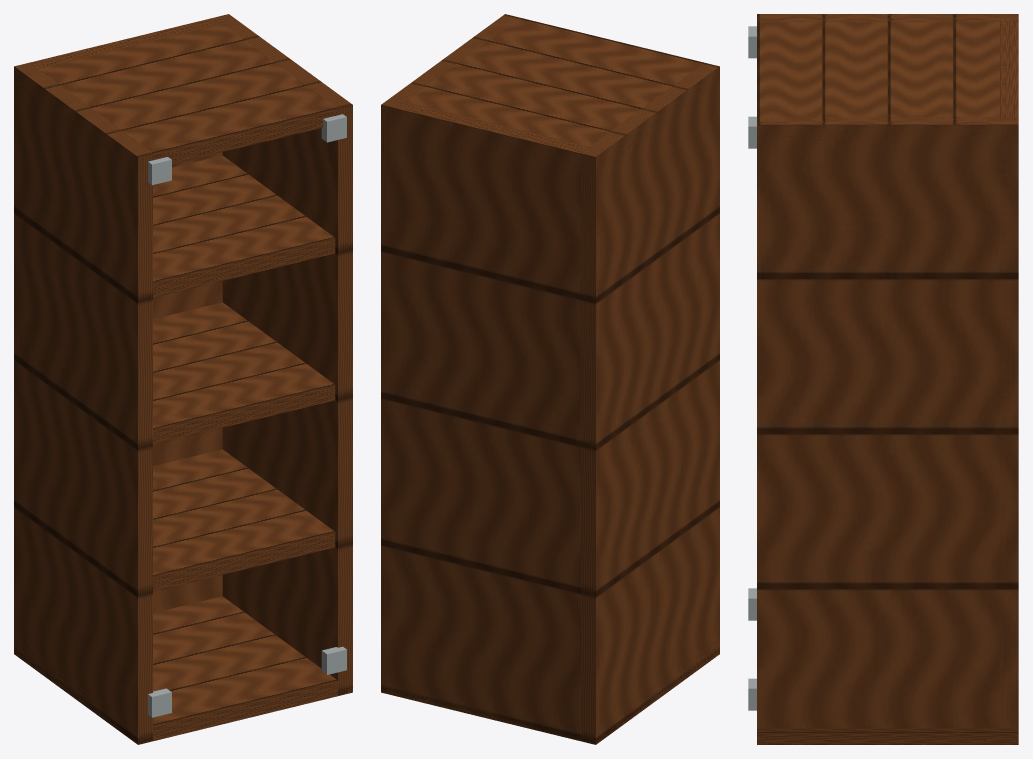
Rendered from suburban-outbreak-interiors-fridge-open-shell-e8cee9d3__20004.glb.
3 renders of one model, left to right at view 1: azimuth 30°, elevation 25°; view 2: azimuth 150°, elevation 25°; view 3: azimuth 270°, elevation 25°, orthographic. The views are drawn at different scales.
Visible parts, largest first — view 1: fridge-open-shell; view 2: fridge-open-shell; view 3: fridge-open-shell.
Part boxes in pixels (x1=…): fridge-open-shell: x1=14, y1=14, x2=352, y2=744; fridge-open-shell: x1=381, y1=14, x2=719, y2=744; fridge-open-shell: x1=748, y1=14, x2=1018, y2=744.
Bounding box in the file's own units: 0.65 × 1.7 × 0.671.
Materials: 2 (1 with a texture image).
